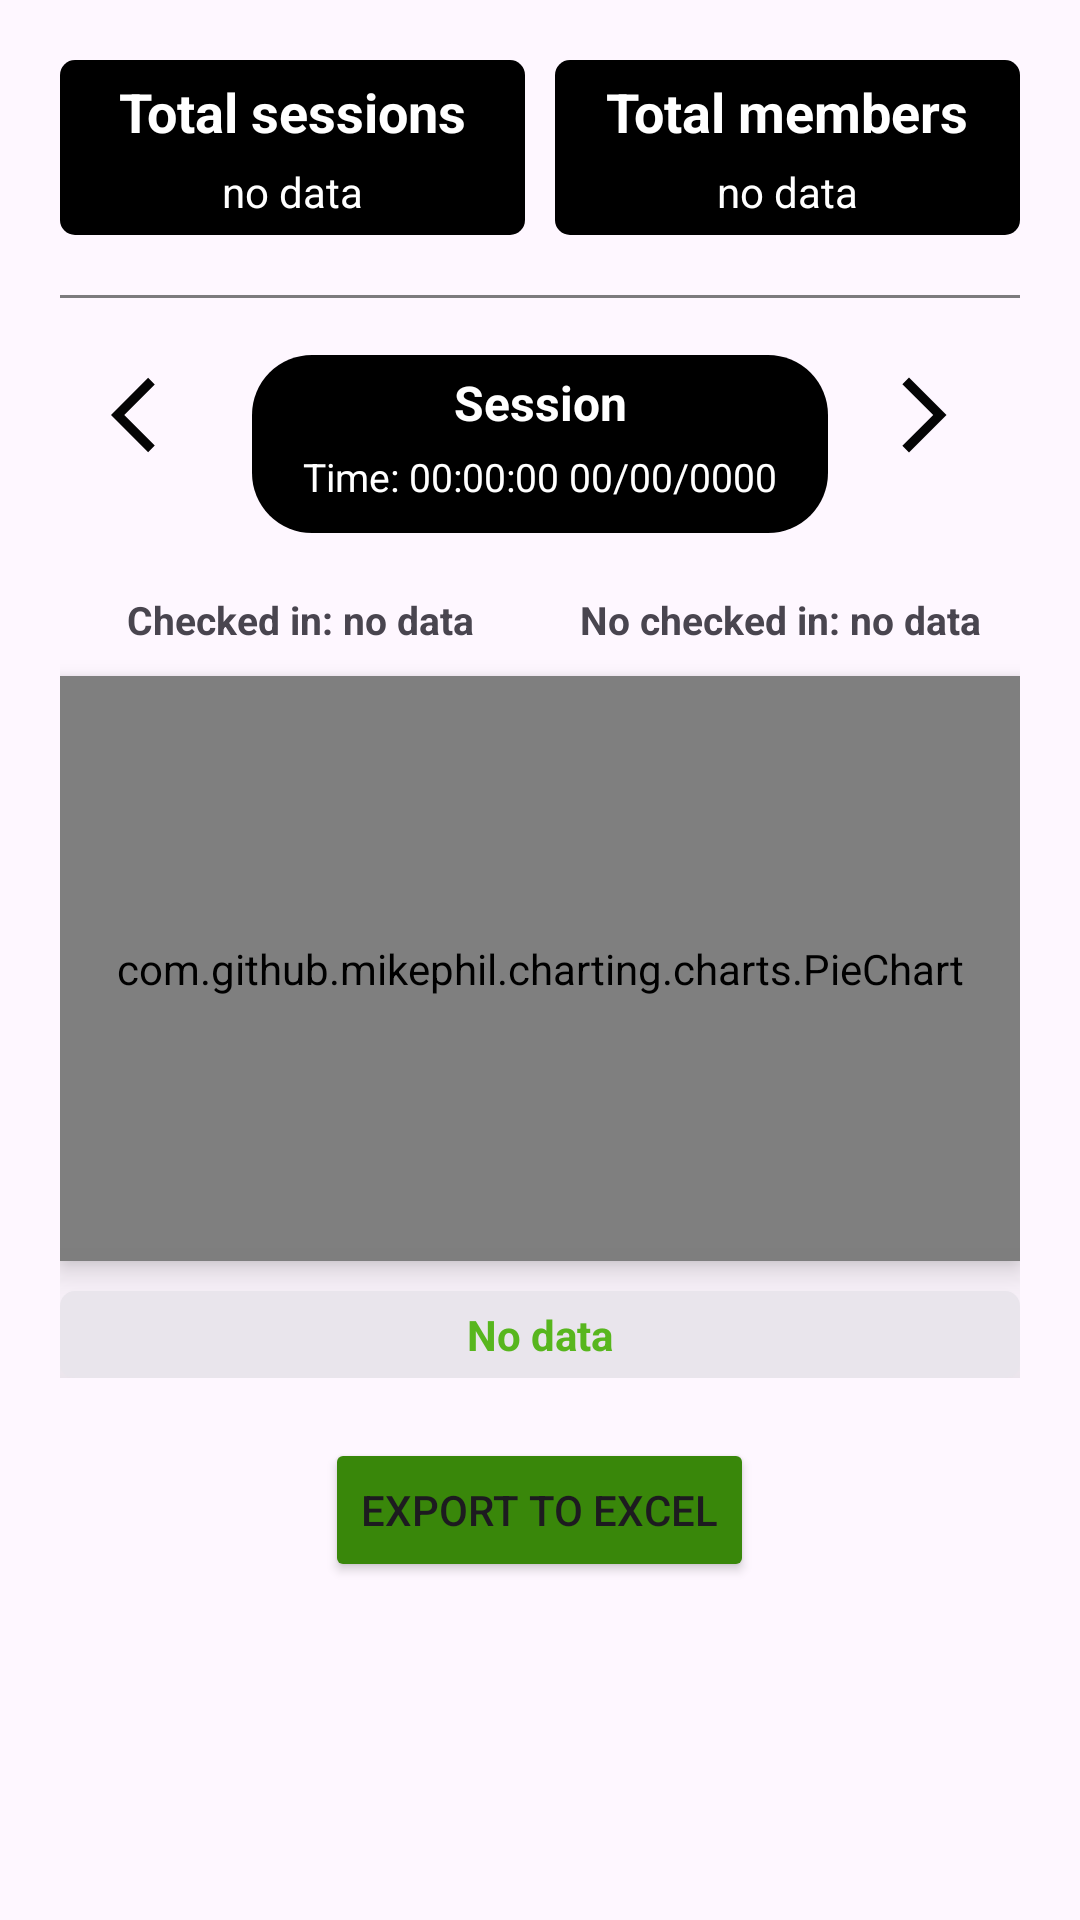

Named icons in this screenshot (1080×1920) and their bounding boxes, box(x1, y1, x2, y2):
back: box(111, 378, 155, 452)
next: box(902, 377, 947, 453)
